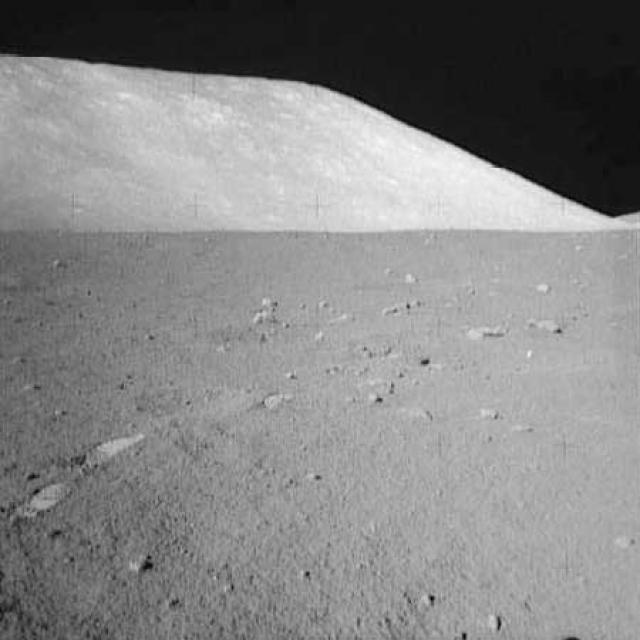rock: (463, 322, 507, 343), (531, 312, 566, 336), (252, 296, 280, 324), (505, 422, 541, 436), (477, 404, 501, 422), (401, 268, 421, 286)
